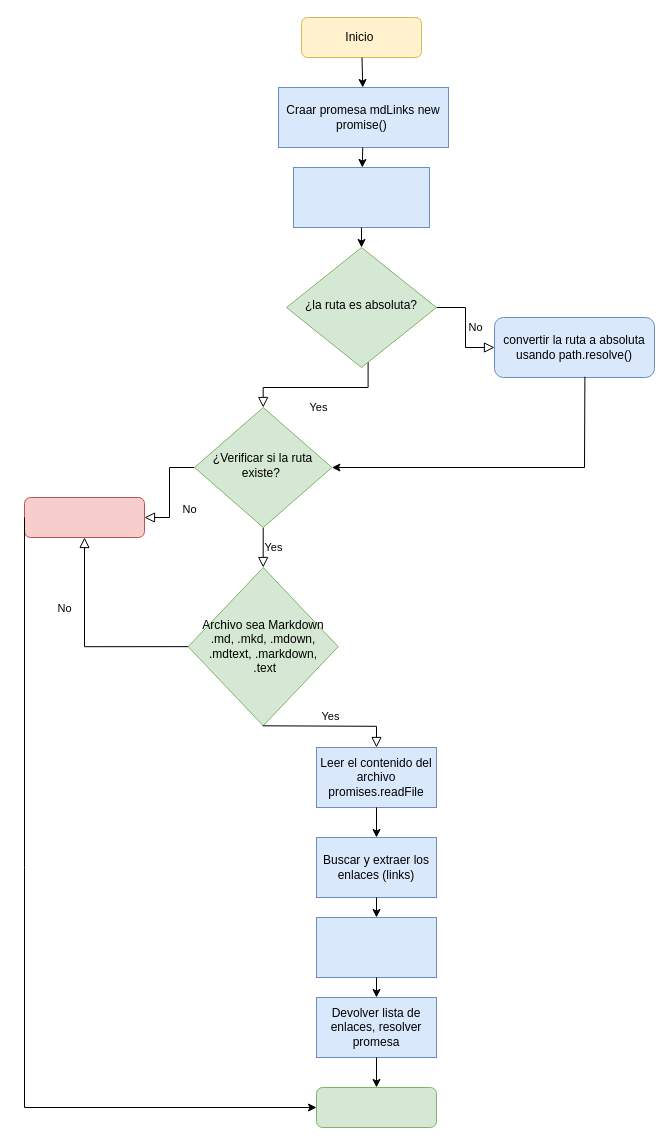
The diagram is 672 pixels wide and 1145 high, and some of its shapes have lost their labels. Each missing label, with the centre of its shape:
"Almacenar en un arreglo" goes at (x=376, y=947).
"Fin" goes at (x=376, y=1107).
"leer ruta" goes at (x=361, y=197).
"Rechazar la promesa con un error" goes at (x=84, y=517).
